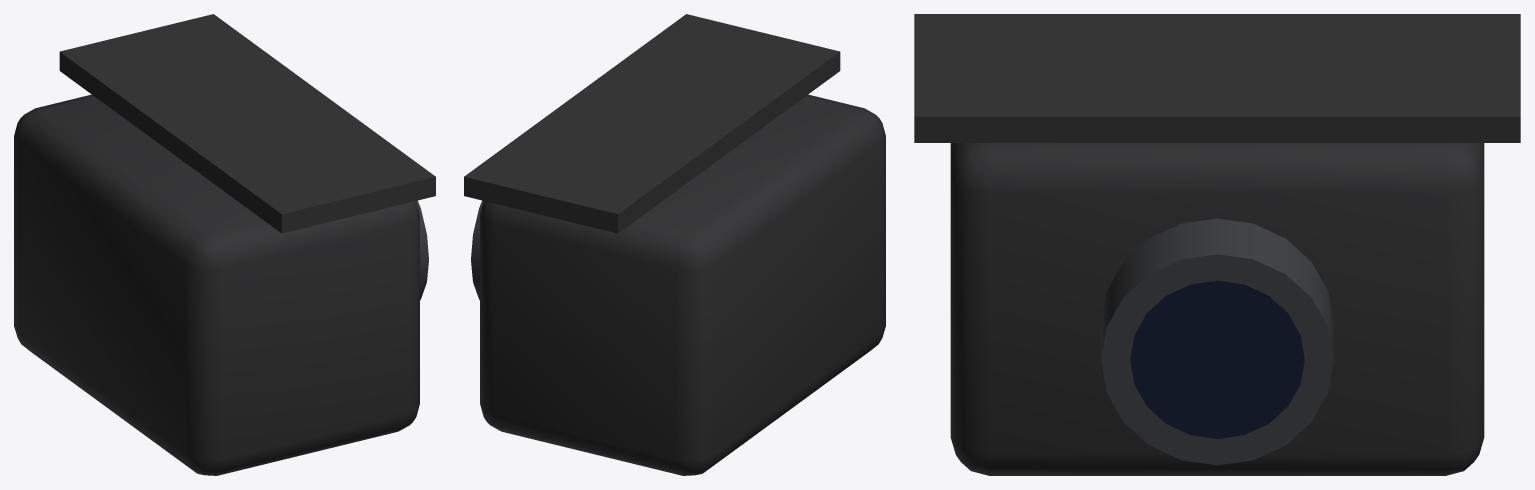
File: camera.glb
3 views of the same model, side by side, from view 1: azimuth 30°, elevation 25°; view 2: azimuth 150°, elevation 25°; view 3: azimuth 270°, elevation 25° (orthographic). The views are drawn at different scales.
Visible parts, largest first — view 1: camera; view 2: camera; view 3: camera.
Boxes of the visible parts, x1=… form: camera: x1=14, y1=14, x2=435, y2=475; camera: x1=464, y1=14, x2=885, y2=475; camera: x1=914, y1=14, x2=1520, y2=475.
Bounding box in the file's own units: 0.0925 × 0.0835 × 0.125.
